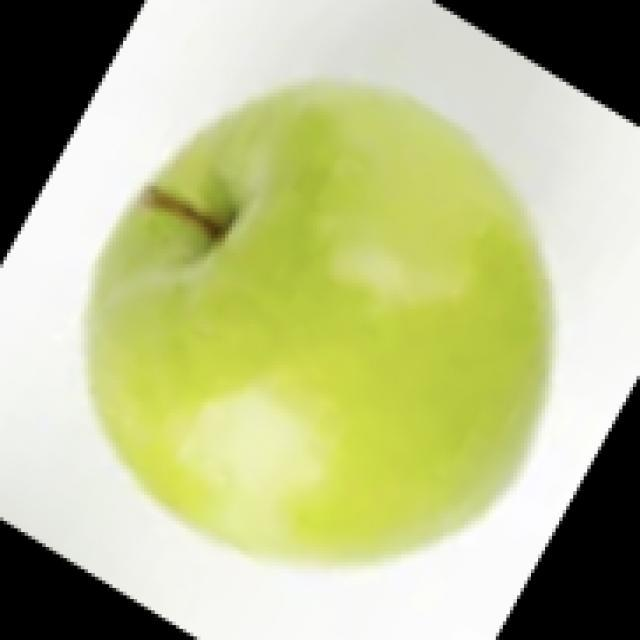Fresh Apple: (115, 89, 540, 564)
